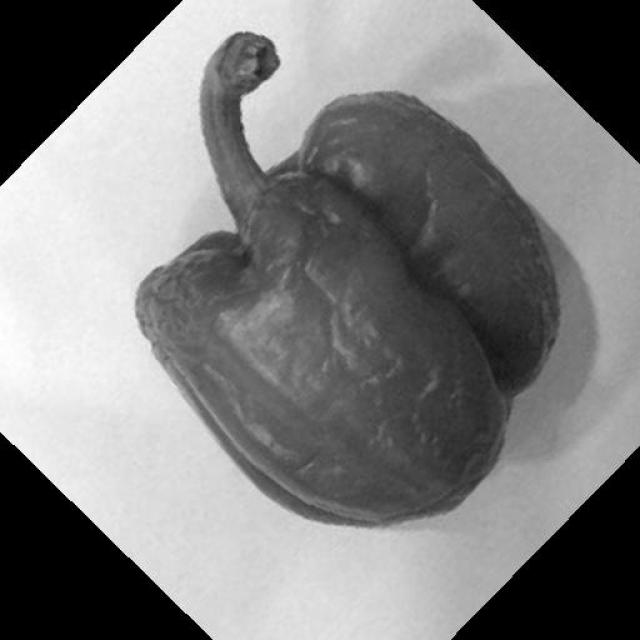Stale_Capsicum: (120, 84, 562, 524)
